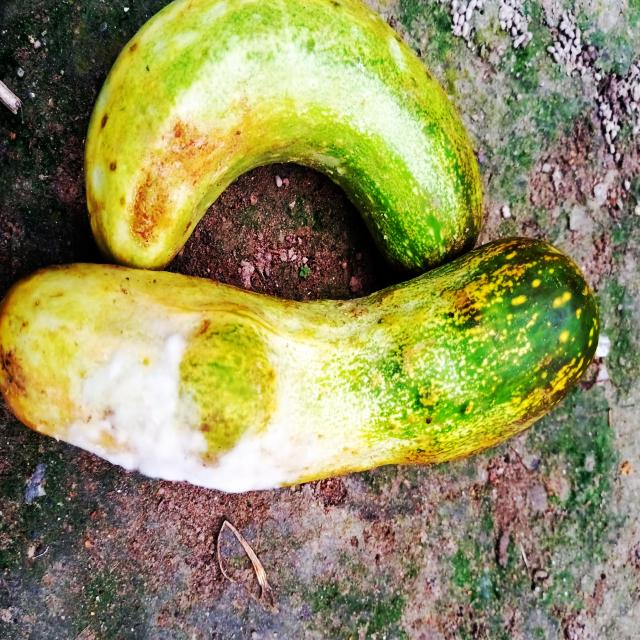Pythium-Fruit-Rot: (64, 323, 331, 494)
